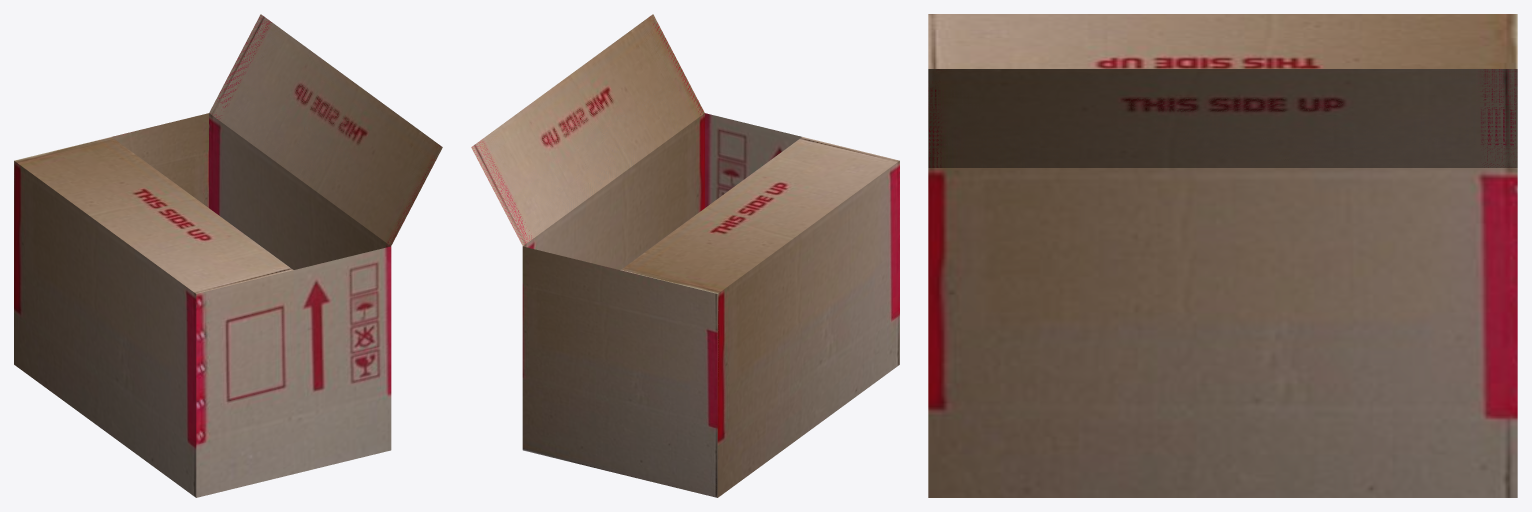
The model's file is Storage Box.dae.
3 renders of one model, left to right at view 1: azimuth 30°, elevation 25°; view 2: azimuth 150°, elevation 25°; view 3: azimuth 270°, elevation 25°, orthographic. The views are drawn at different scales.
Parts seen in each view (by area): view 1: Untitled (×2); view 2: Untitled (×2); view 3: Untitled (×2).
Part boxes in pixels (x1=…): Untitled (×2): x1=14, y1=14, x2=442, y2=497; Untitled (×2): x1=471, y1=14, x2=899, y2=497; Untitled (×2): x1=928, y1=14, x2=1517, y2=497.
Size of the model in its own units: 24.91 by 31.85 by 28.03.
Materials: 2 (1 with a texture image).
